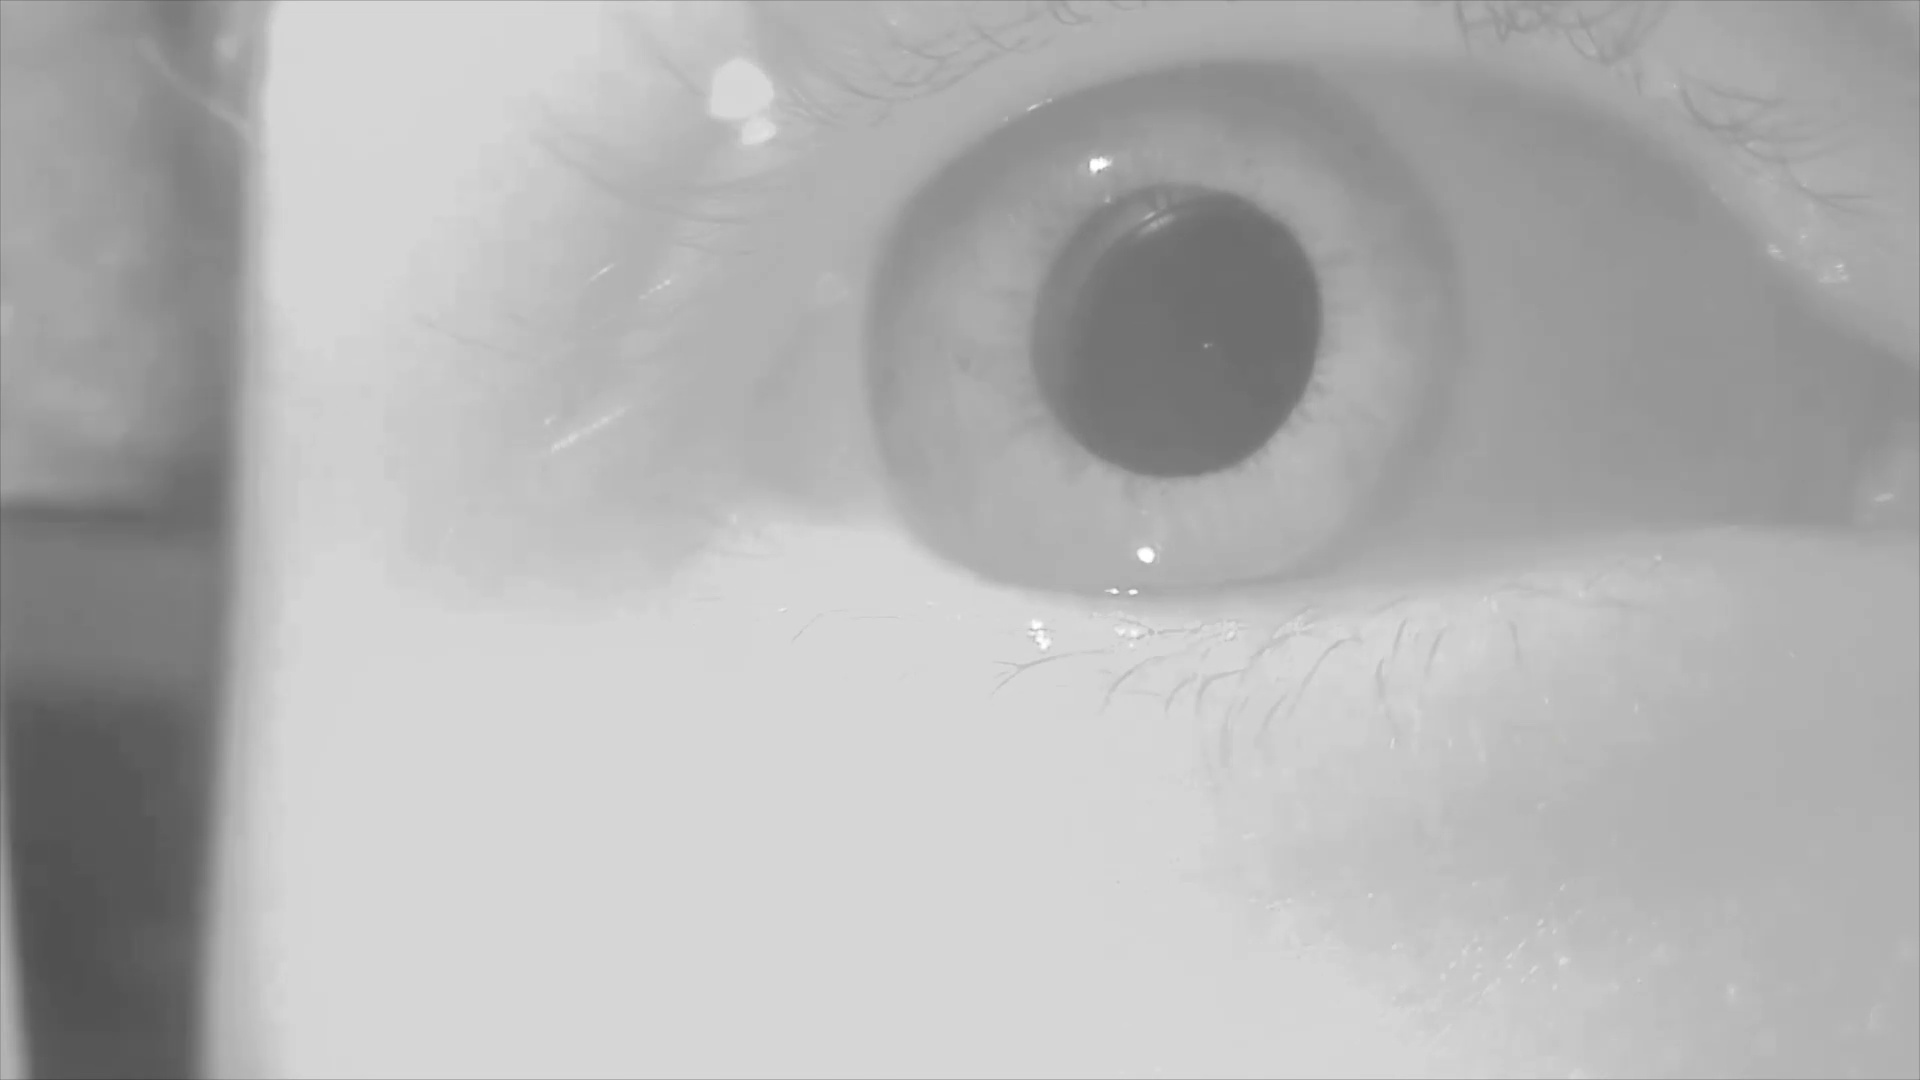pupil: (1037, 184, 1323, 478)
